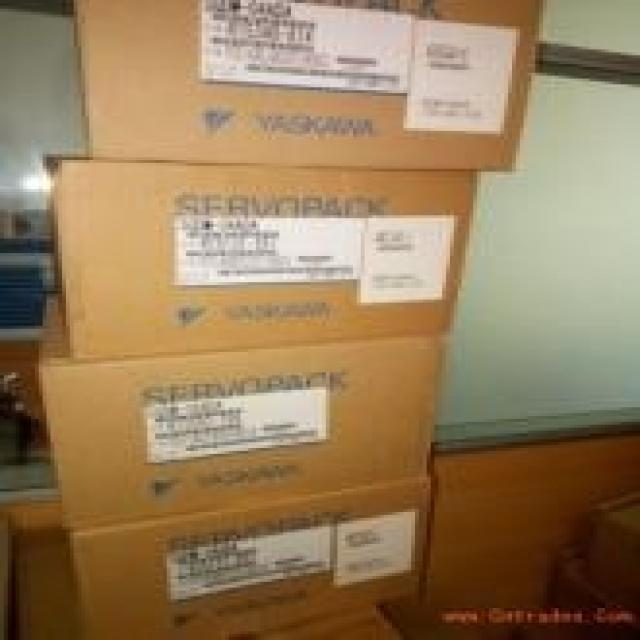box: (35, 294, 438, 529), (47, 160, 477, 361), (70, 0, 543, 169), (66, 474, 427, 640), (244, 605, 403, 640)
